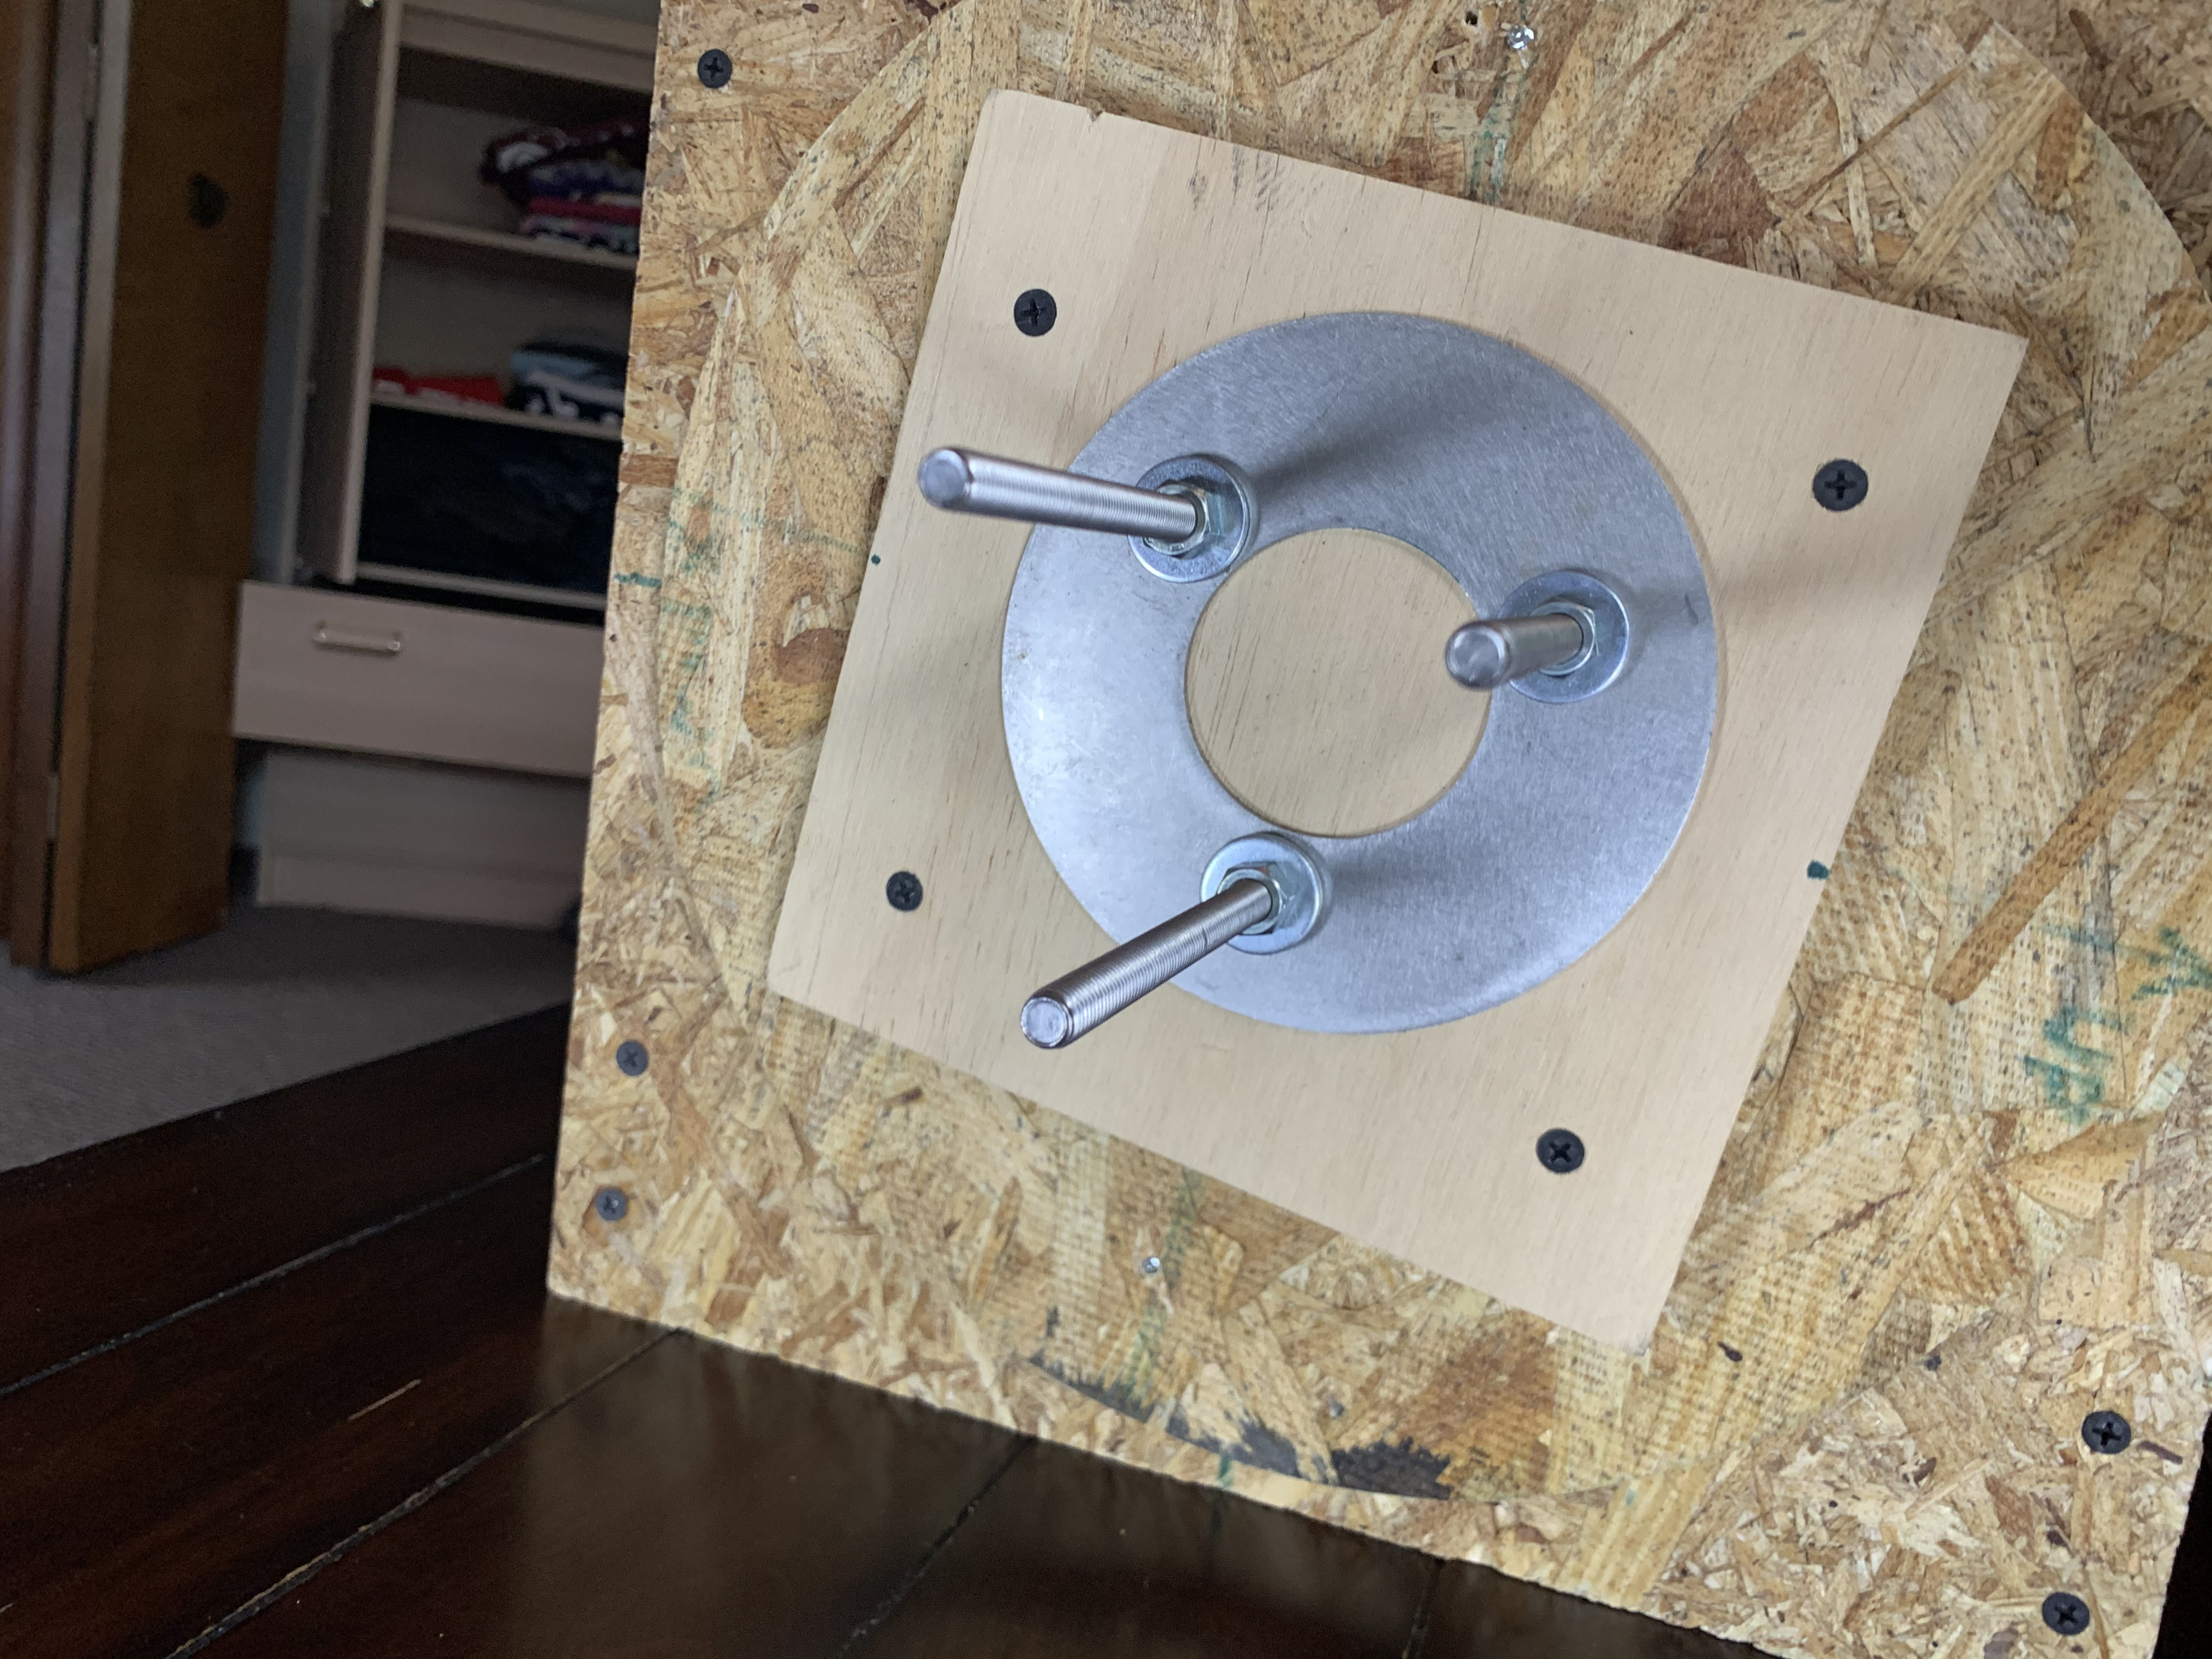bolt: (1493, 568, 1635, 709), (1127, 455, 1258, 582), (1197, 833, 1327, 955)
